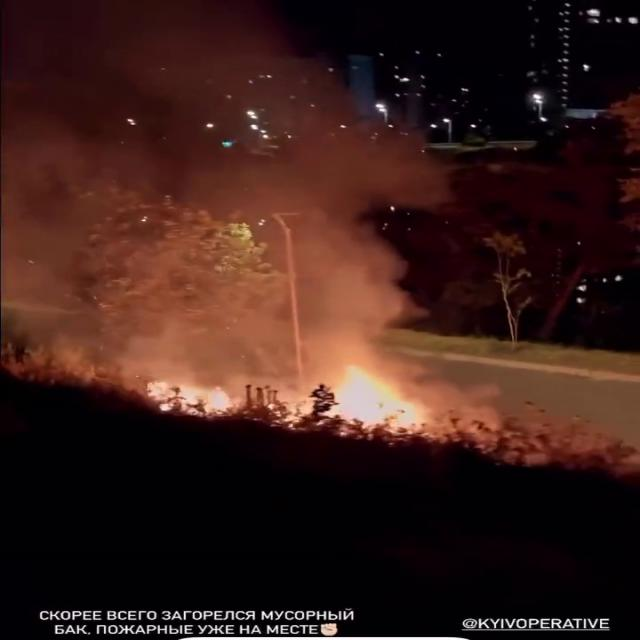Fire: (145, 376, 287, 424), (333, 367, 428, 426)
Smoke: (266, 210, 452, 400)
